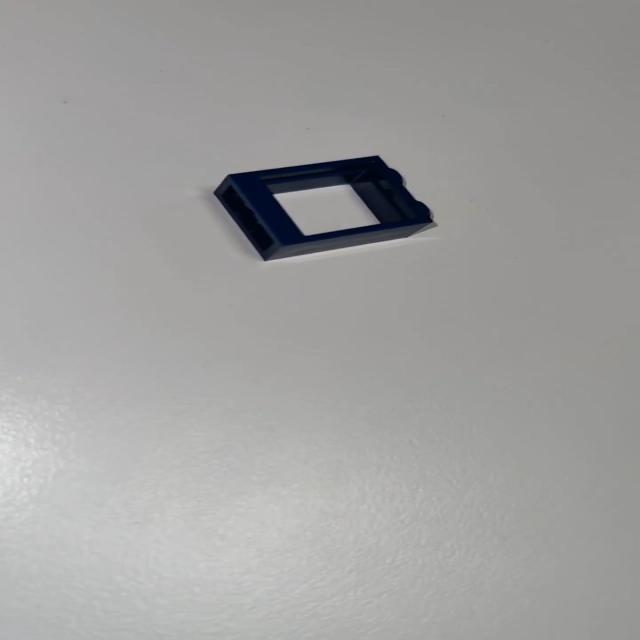W2x1x2: (211, 149, 449, 264)
